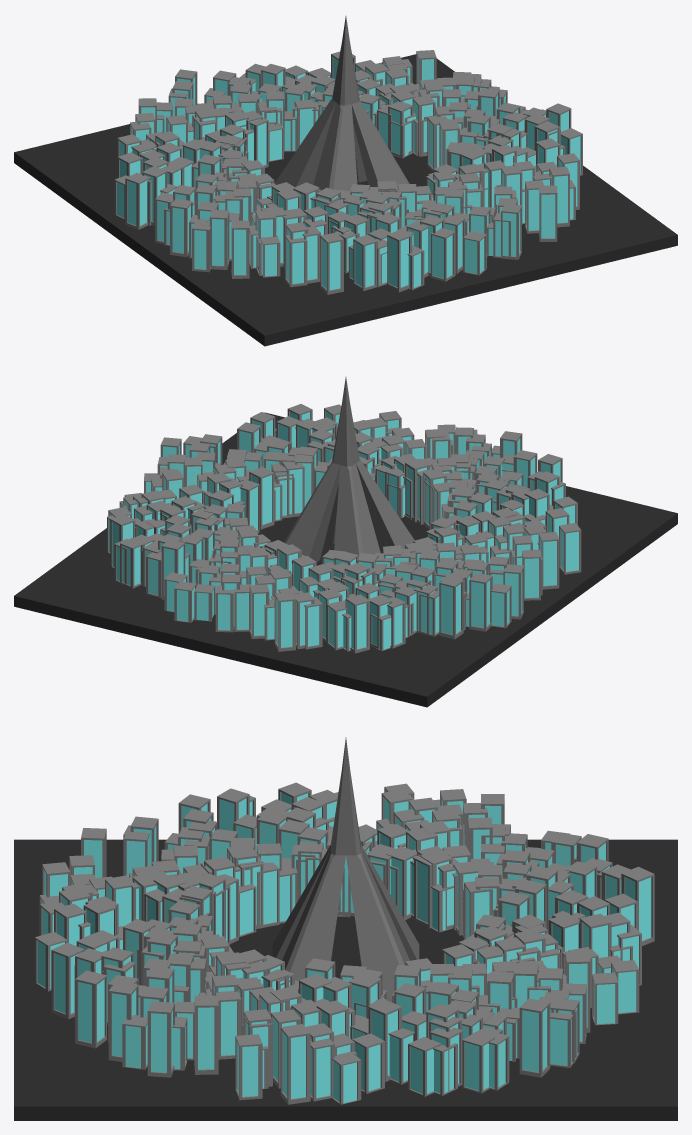
File: ville.glb
3 renders of one model, top to bottom at view 1: azimuth 30°, elevation 25°; view 2: azimuth 150°, elevation 25°; view 3: azimuth 270°, elevation 25°, orthographic. The views are drawn at different scales.
Parts seen in each view (by area): view 1: Cube.001, Cube, Cube.002; view 2: Cube.001, Cube, Cube.002; view 3: Cube.001, Cube, Cube.002.
Part boxes in pixels (x1=…): Cube.001: x1=114, y1=50, x2=582, y2=294; Cube: x1=14, y1=54, x2=677, y2=346; Cube.002: x1=274, y1=16, x2=409, y2=190; Cube.001: x1=107, y1=404, x2=581, y2=653; Cube: x1=14, y1=412, x2=677, y2=707; Cube.002: x1=284, y1=377, x2=414, y2=561; Cube.001: x1=34, y1=782, x2=654, y2=1104; Cube: x1=14, y1=839, x2=677, y2=1120; Cube.002: x1=272, y1=737, x2=419, y2=1002.
Size of the model in its own units: 80.47 by 35.33 by 84.55.
